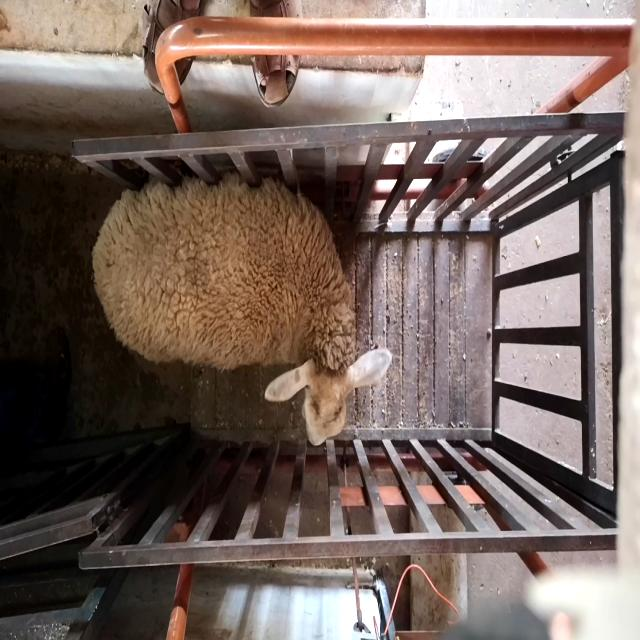sheep: (92, 171, 393, 447)
